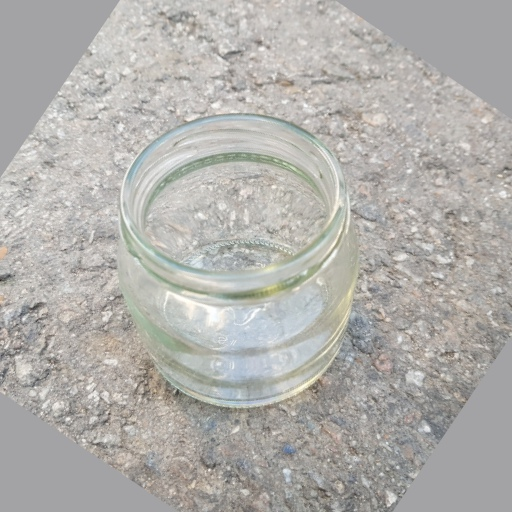Glass_5: (115, 106, 361, 410)
